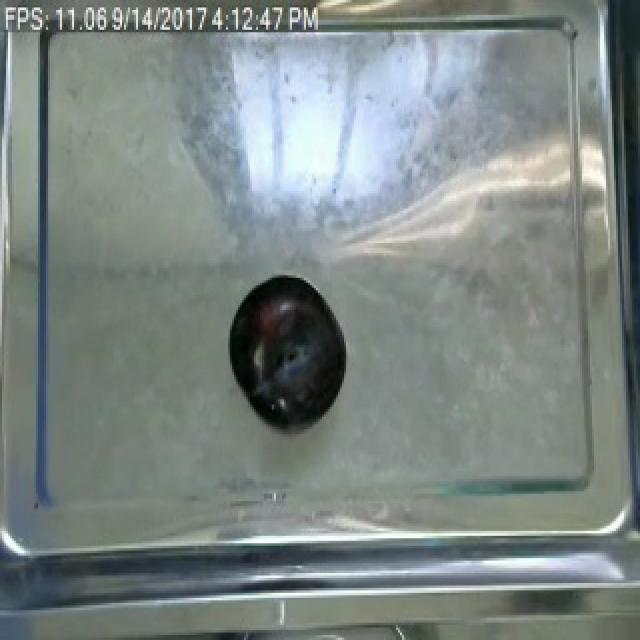Fruit: (222, 270, 350, 427)
